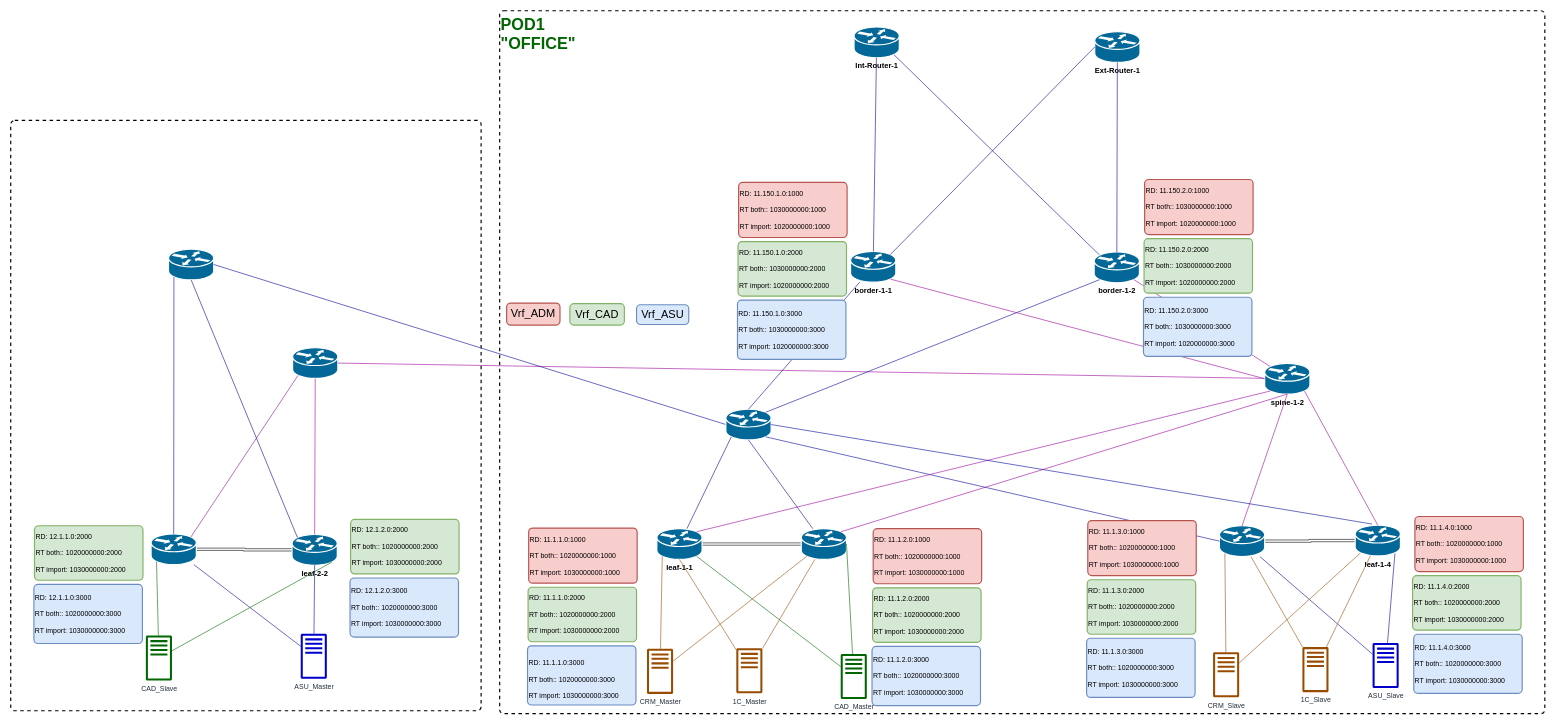
The diagram is 1555 pixels wide and 724 high, and some of its shapes have lost their labels. Each missing label, with the box of its shape:
leaf-1-2: (800, 528, 847, 560)
leaf-1-3: (1219, 525, 1265, 557)
leaf-2-1: (150, 533, 197, 565)
POD2 "PRODUCTION": (10, 119, 481, 711)
spine-1-1: (725, 408, 771, 440)
spine-2-1: (168, 248, 214, 280)
spine-2-2: (292, 347, 338, 379)
